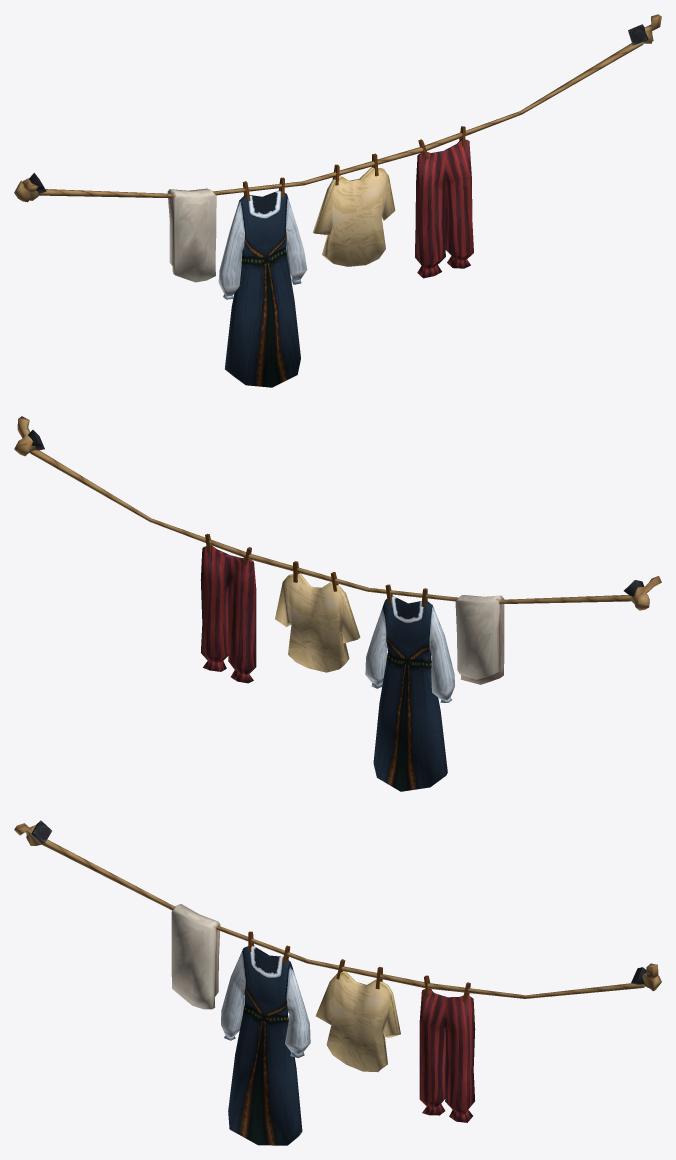
The model's file is SM_PROP_rope_decoration_city_04.fbx.
3 renders of one model, top to bottom at view 1: azimuth 30°, elevation 25°; view 2: azimuth 150°, elevation 25°; view 3: azimuth 330°, elevation 25°, orthographic.
Visible parts, largest first — view 1: SM_PROP_rope_decoration_city_04; view 2: SM_PROP_rope_decoration_city_04; view 3: SM_PROP_rope_decoration_city_04.
Boxes of the visible parts, box(x1,y1,x2,y2) form: SM_PROP_rope_decoration_city_04: box(14, 14, 661, 387); SM_PROP_rope_decoration_city_04: box(14, 416, 661, 791); SM_PROP_rope_decoration_city_04: box(14, 820, 661, 1145).
Bounding box in the file's own units: 491 × 200 × 24.04.
